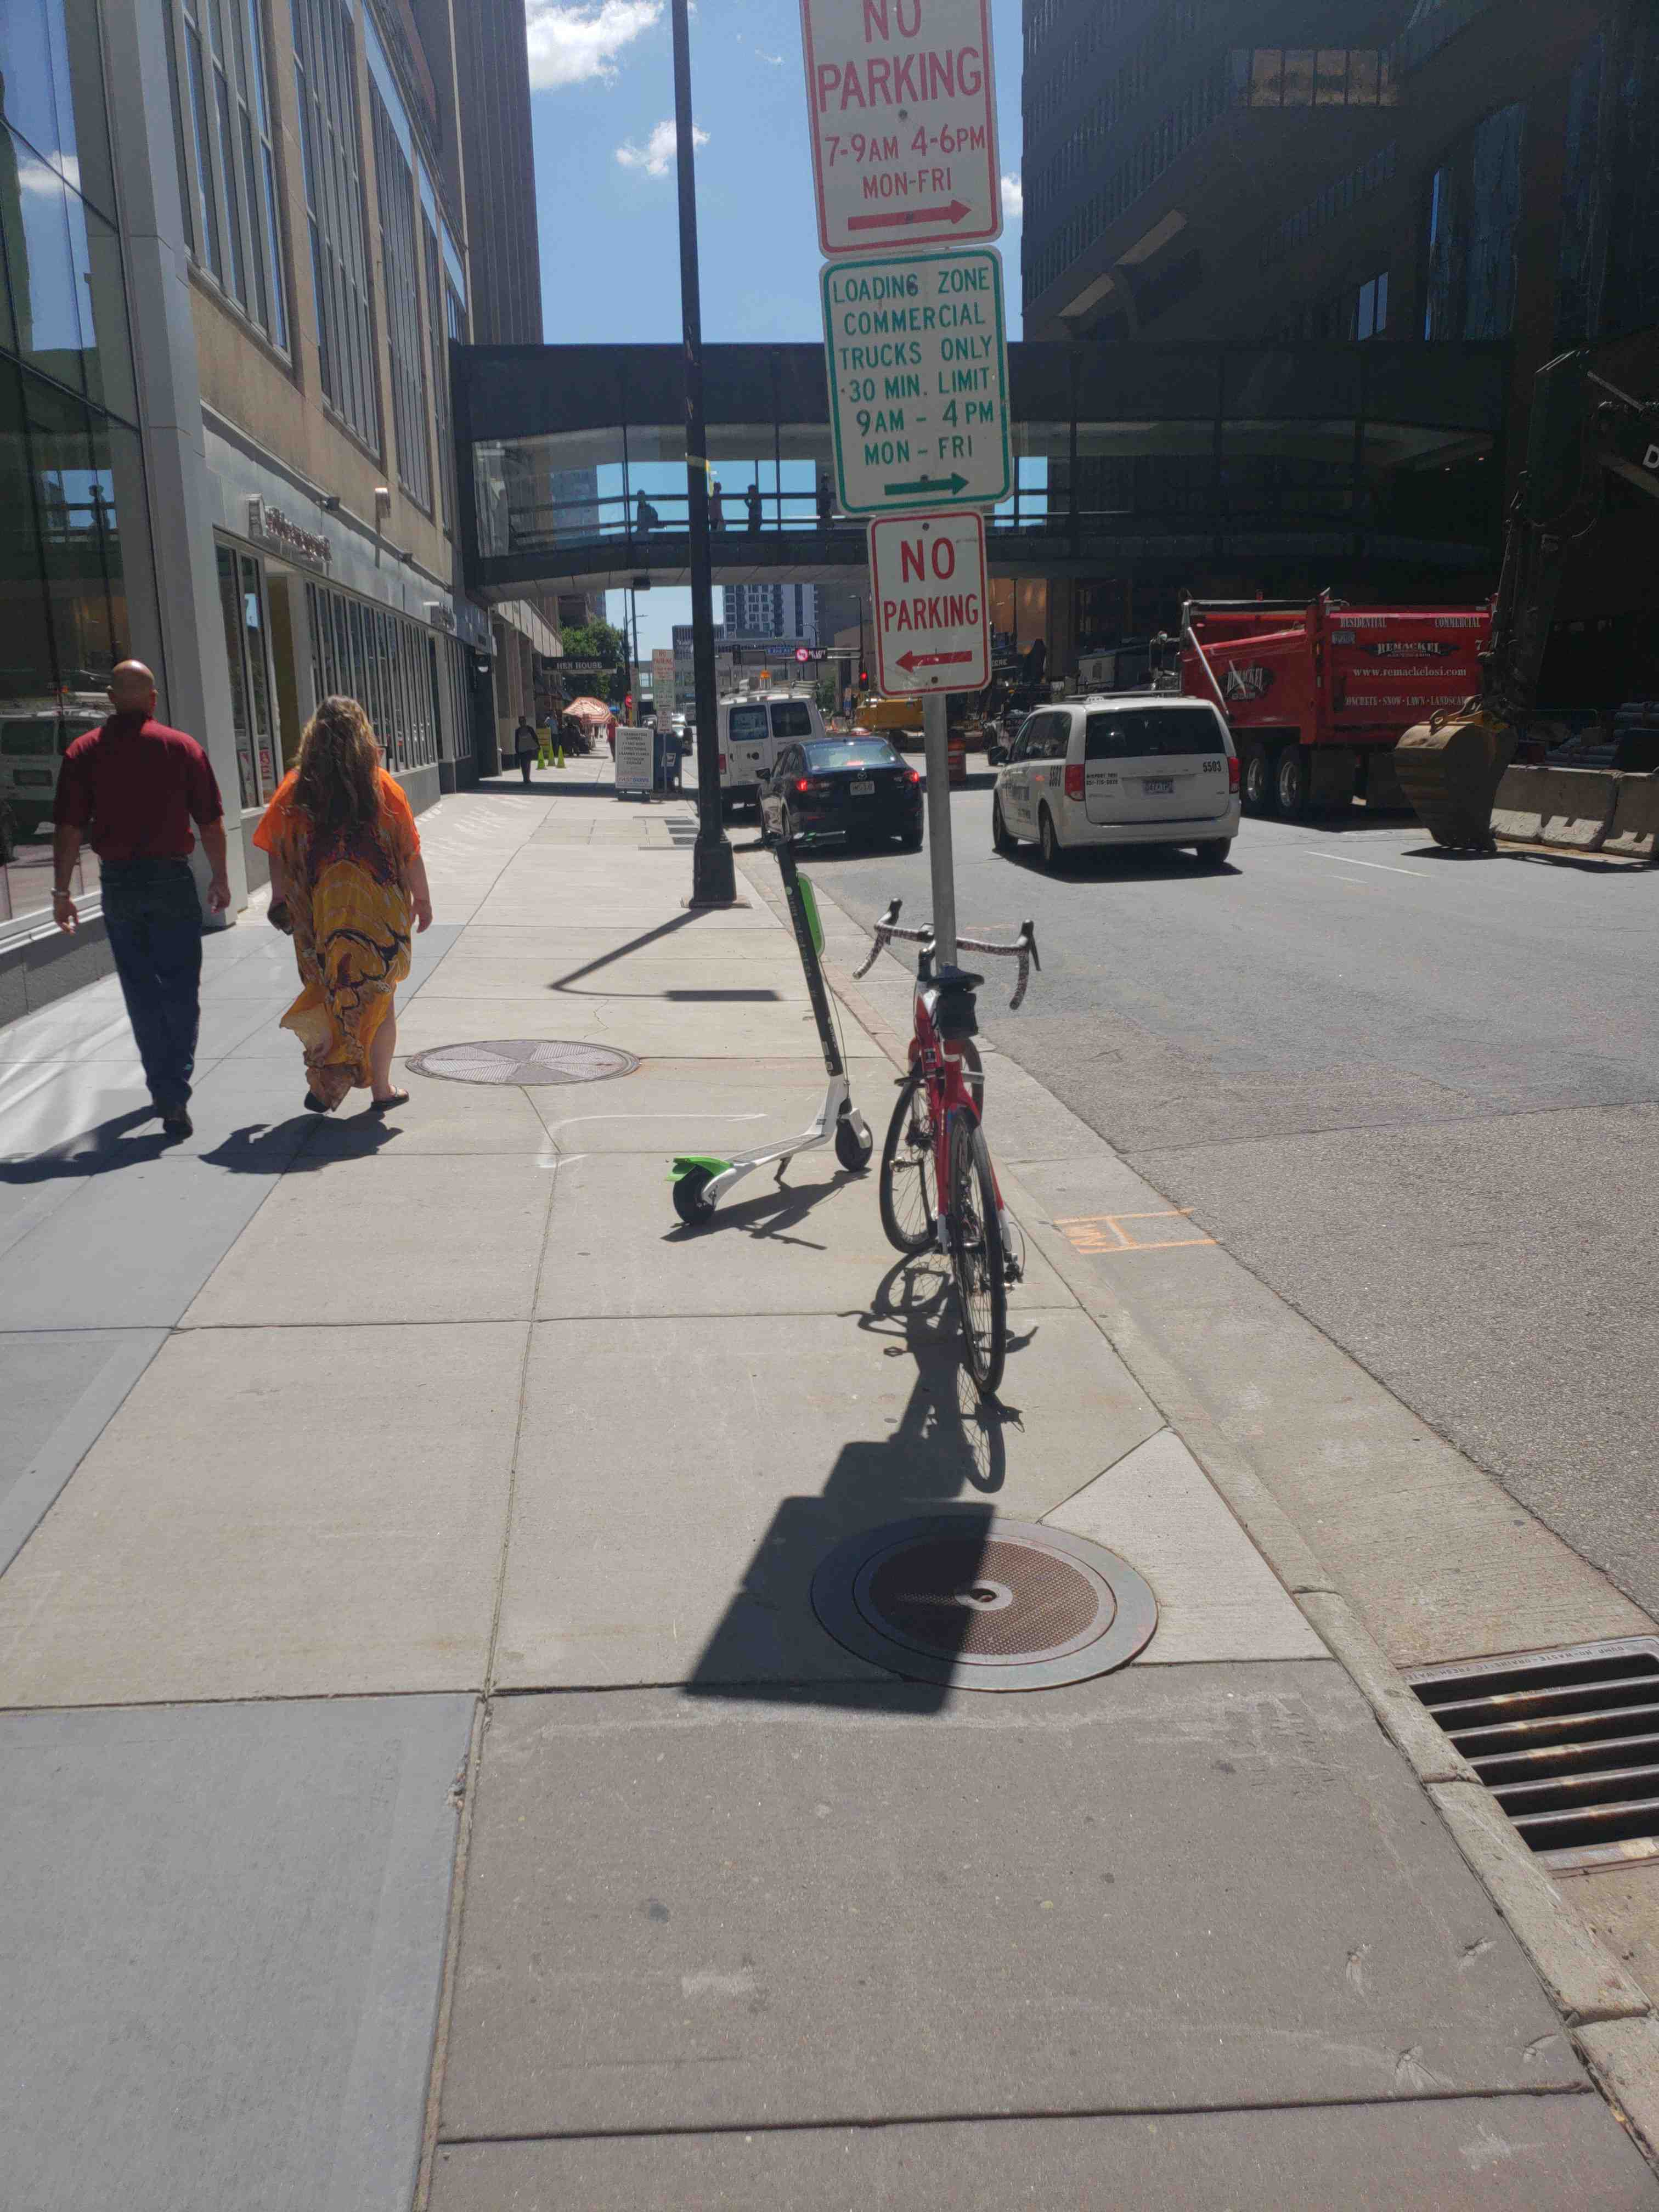scooter: (791, 650, 1234, 876)
